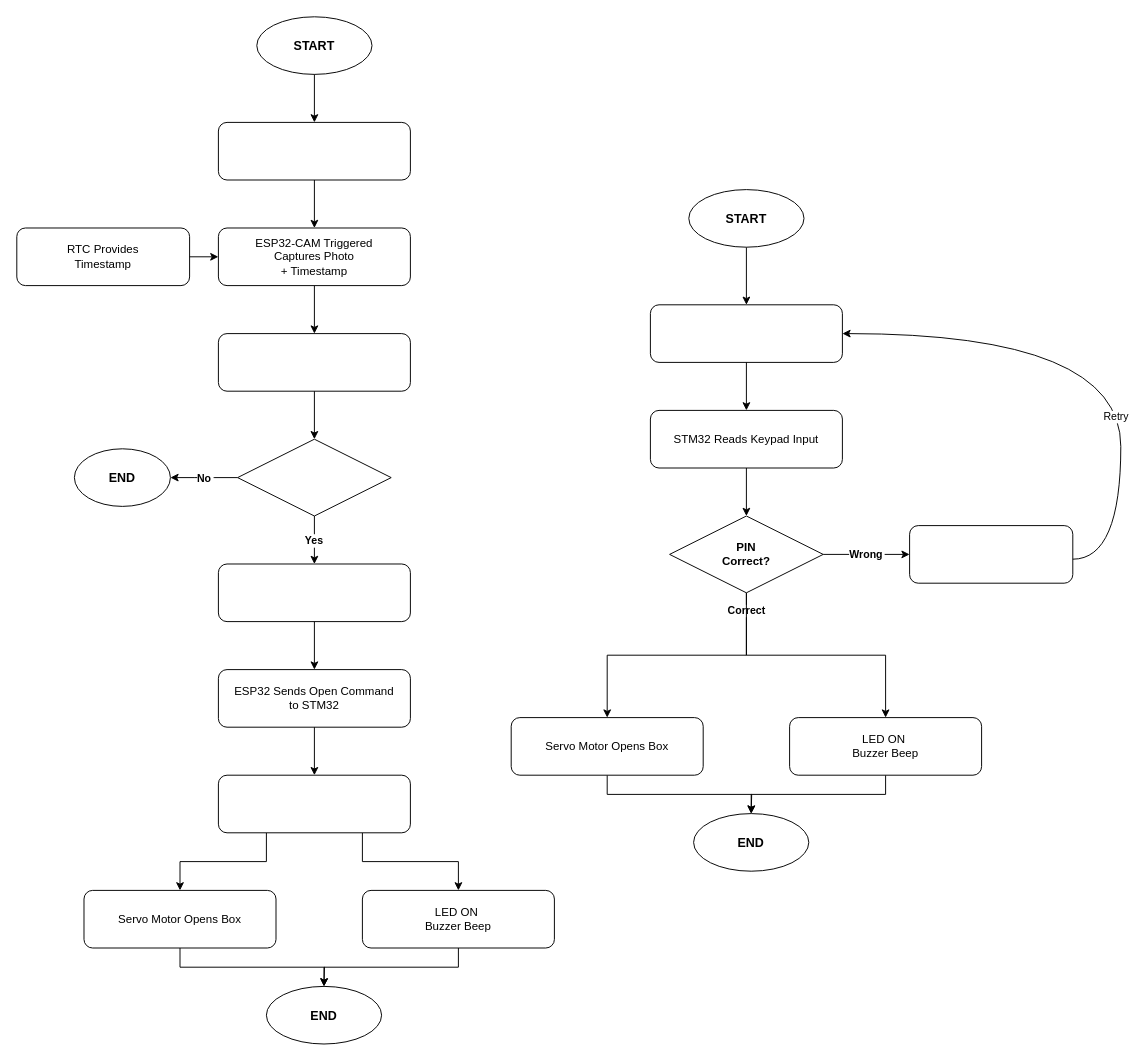
Some shapes in this 1144 by 1061 pixel diagram are drawn without their labels. Each missing label, with the centre of its shape:
ESP32-CAM Receives "Open": [313,592]
LED Blinks Red: [991,554]
Mobile App Displays Photo + Timestamp to User: [313,362]
Open Box?: [314,477]
Passive IR Sensor Detects Presence at Door: [313,150]
STM32 Receives UART Command: [313,803]
User Enters PIN on Keypad: [745,333]
